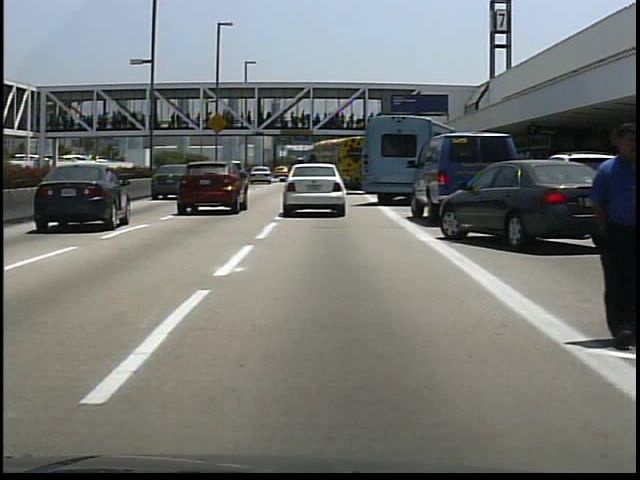person: (577, 118, 640, 347)
